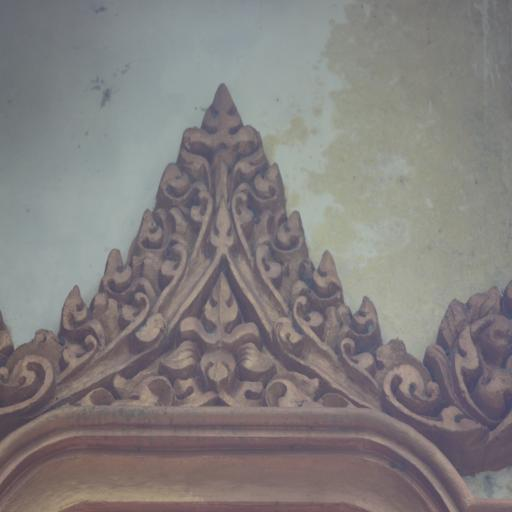la: (22, 89, 427, 414)
